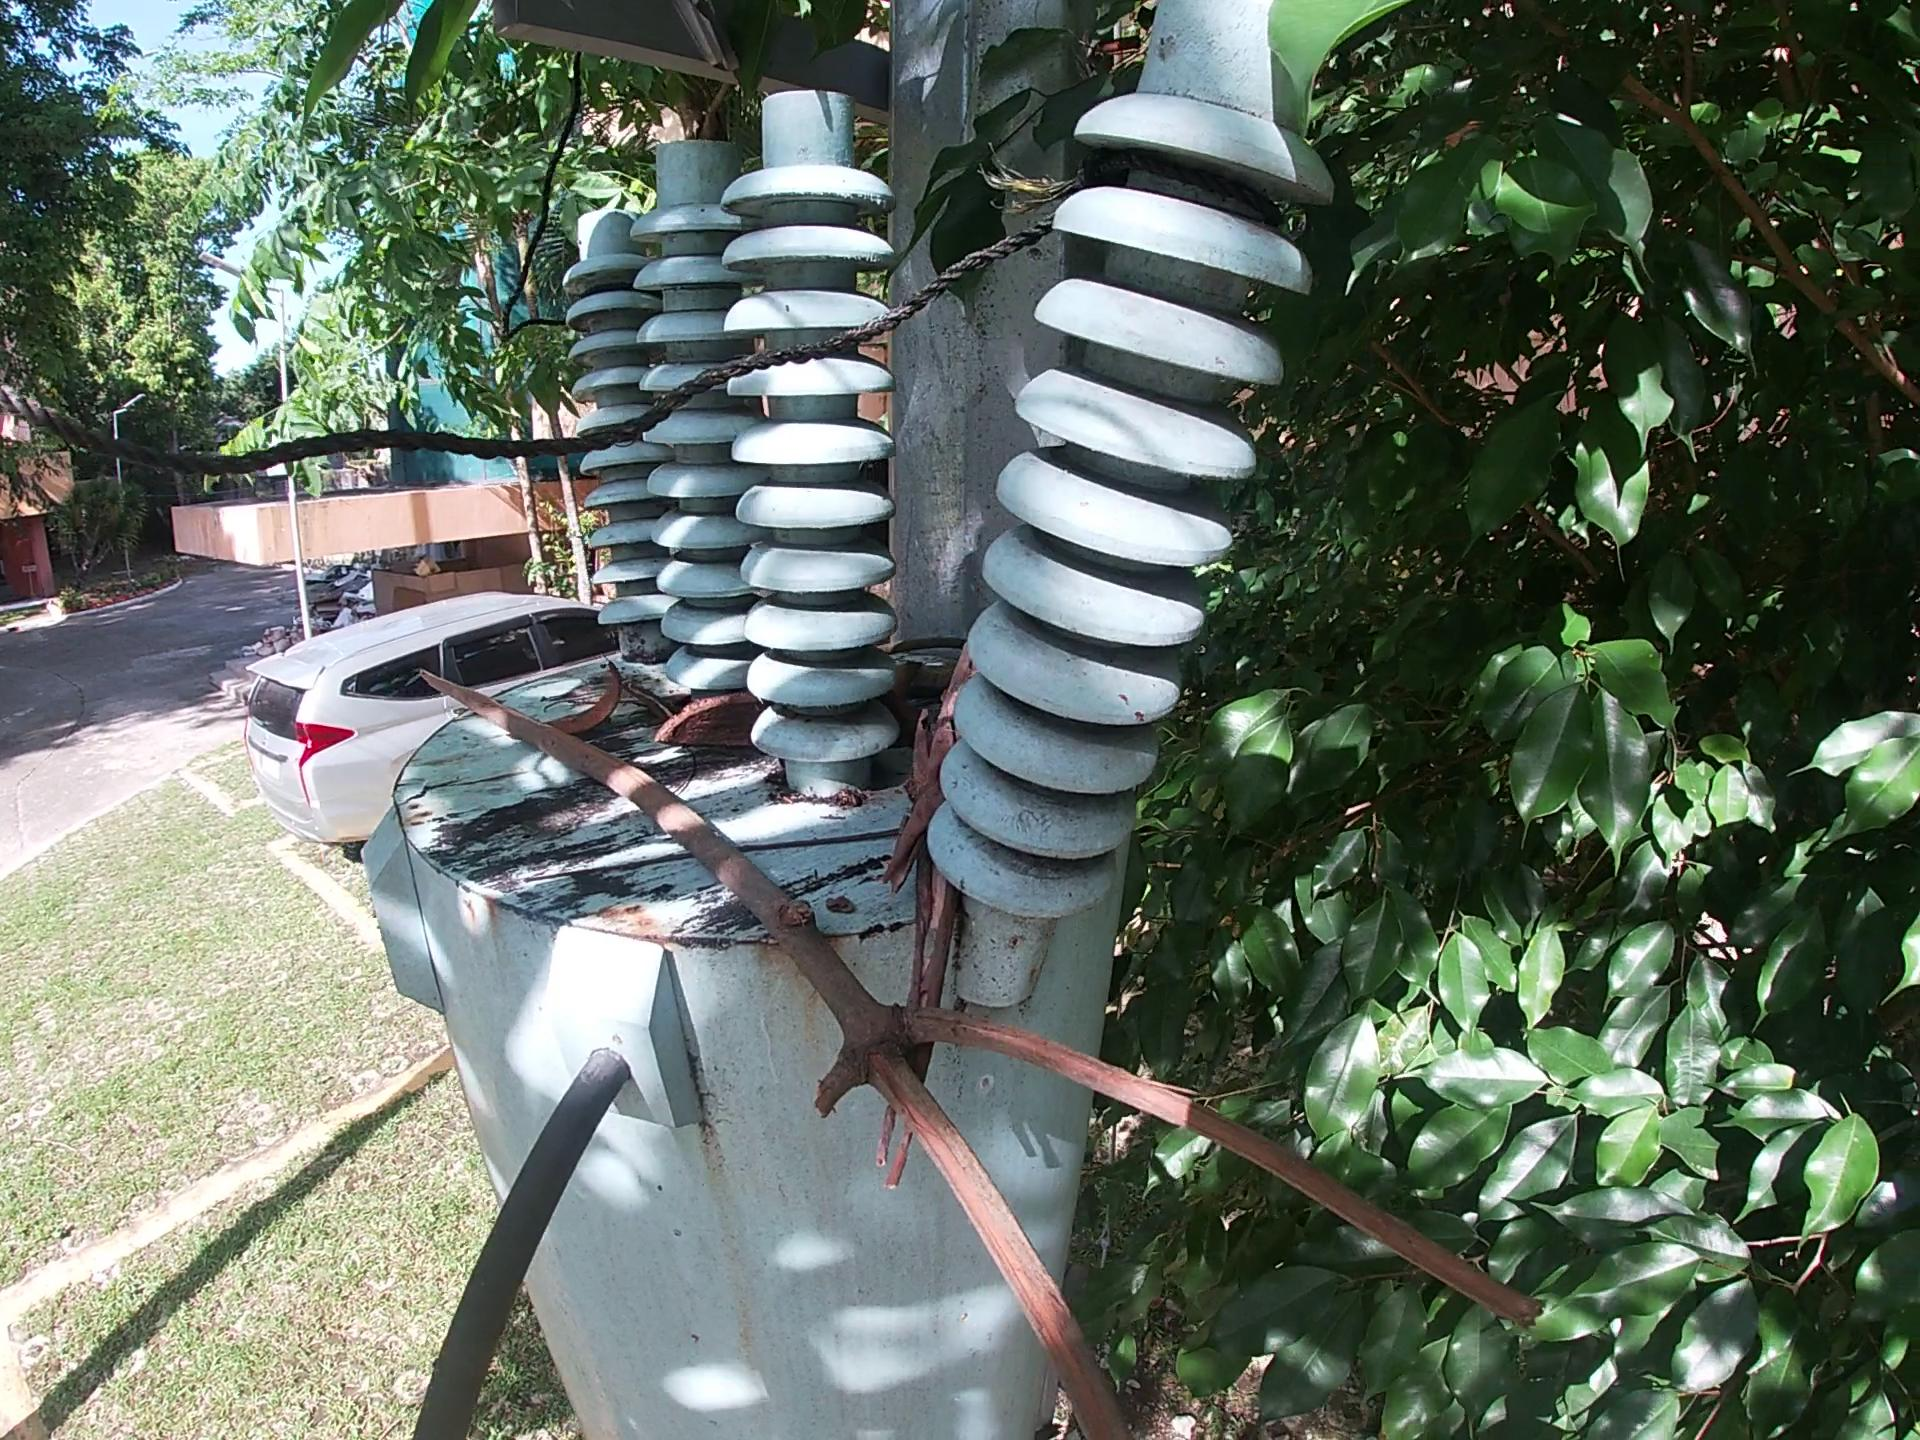mahogany fruit: (664, 687, 751, 771), (547, 655, 643, 723)
tree branch: (399, 673, 1622, 1435), (865, 619, 978, 1219), (745, 817, 909, 858), (627, 687, 665, 728)
